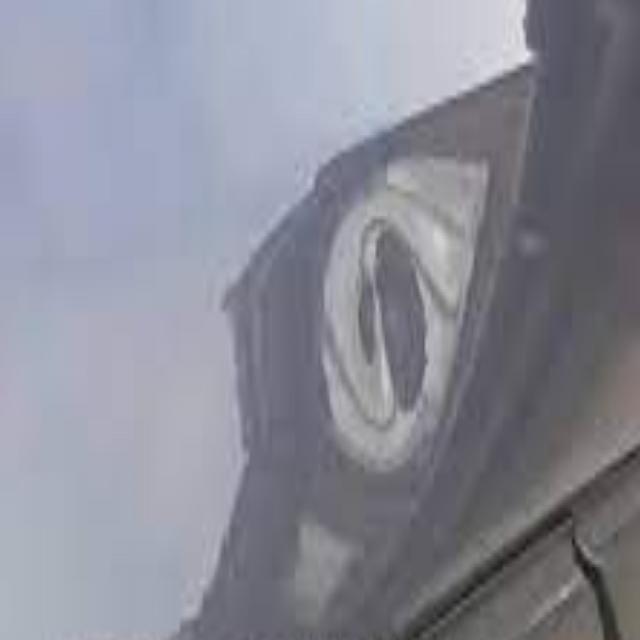dents: (299, 170, 478, 452)
